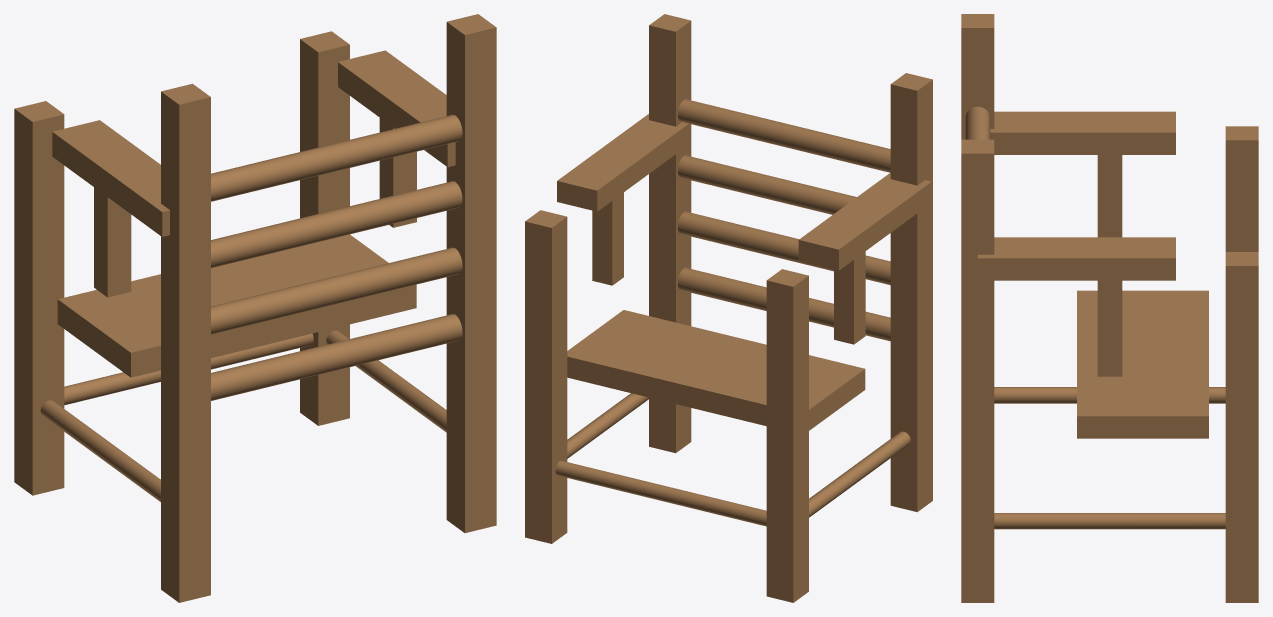
The model's file is 앤디1암체어오크_68d2d2e7.glb.
3 views of the same model, side by side, from view 1: azimuth 30°, elevation 25°; view 2: azimuth 150°, elevation 25°; view 3: azimuth 270°, elevation 25° (orthographic). The views are drawn at different scales.
Size of the model in its own units: 4.2 by 6 by 3.6.
